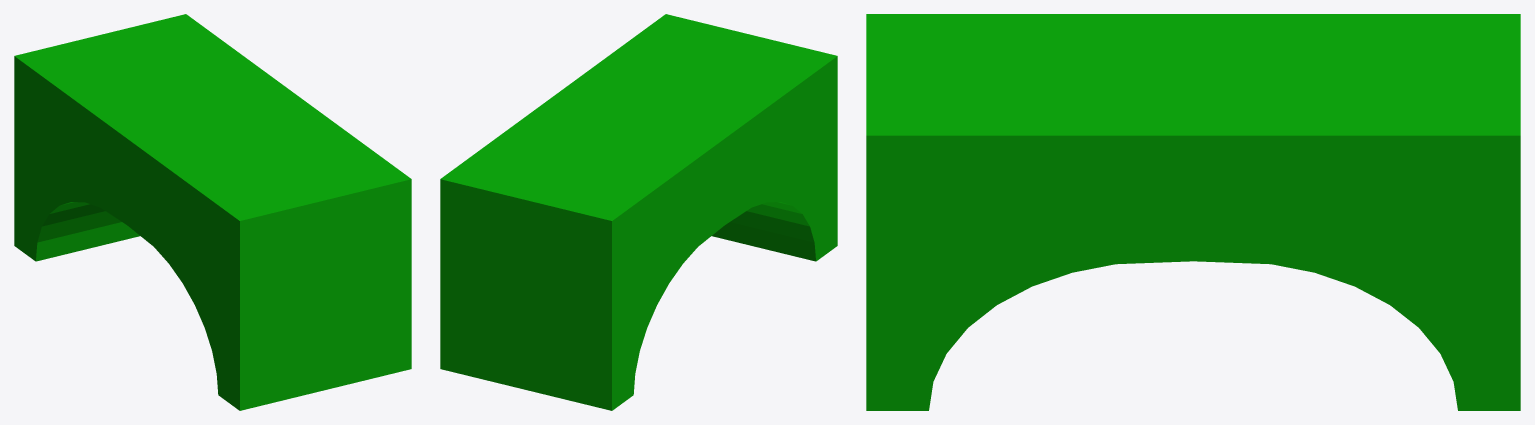
Rendered from Kloetzchen_7.fbx.
3 renders of one model, left to right at view 1: azimuth 30°, elevation 25°; view 2: azimuth 150°, elevation 25°; view 3: azimuth 270°, elevation 25°, orthographic. The views are drawn at different scales.
Parts seen in each view (by area): view 1: Cube.004; view 2: Cube.004; view 3: Cube.004.
Part boxes in pixels (<box>): Cube.004: <box>14,14,411,410</box>; Cube.004: <box>440,14,837,410</box>; Cube.004: <box>866,14,1520,410</box>.
Size of the model in its own units: 1.74 by 1.84 by 3.96.
